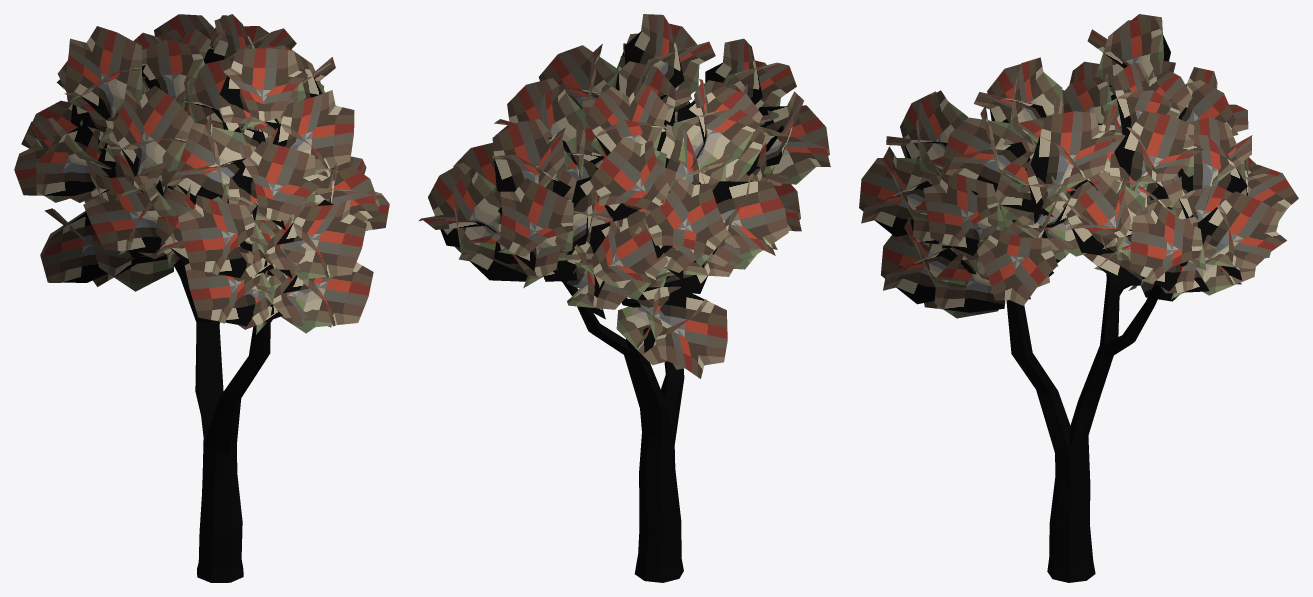
File: SM_Tree_Generic_01_LOD_01.fbx
3 views of the same model, side by side, from view 1: azimuth 30°, elevation 25°; view 2: azimuth 150°, elevation 25°; view 3: azimuth 270°, elevation 25° (orthographic). The views are drawn at different scales.
Visible parts, largest first — view 1: SM_Tree_Generic_01_LOD_01; view 2: SM_Tree_Generic_01_LOD_01; view 3: SM_Tree_Generic_01_LOD_01.
Part boxes in pixels (x1,y1,x2,y2): SM_Tree_Generic_01_LOD_01: (14, 14, 389, 582); SM_Tree_Generic_01_LOD_01: (418, 14, 830, 582); SM_Tree_Generic_01_LOD_01: (859, 14, 1298, 582).
Size of the model in its own units: 343 by 560 by 423.
